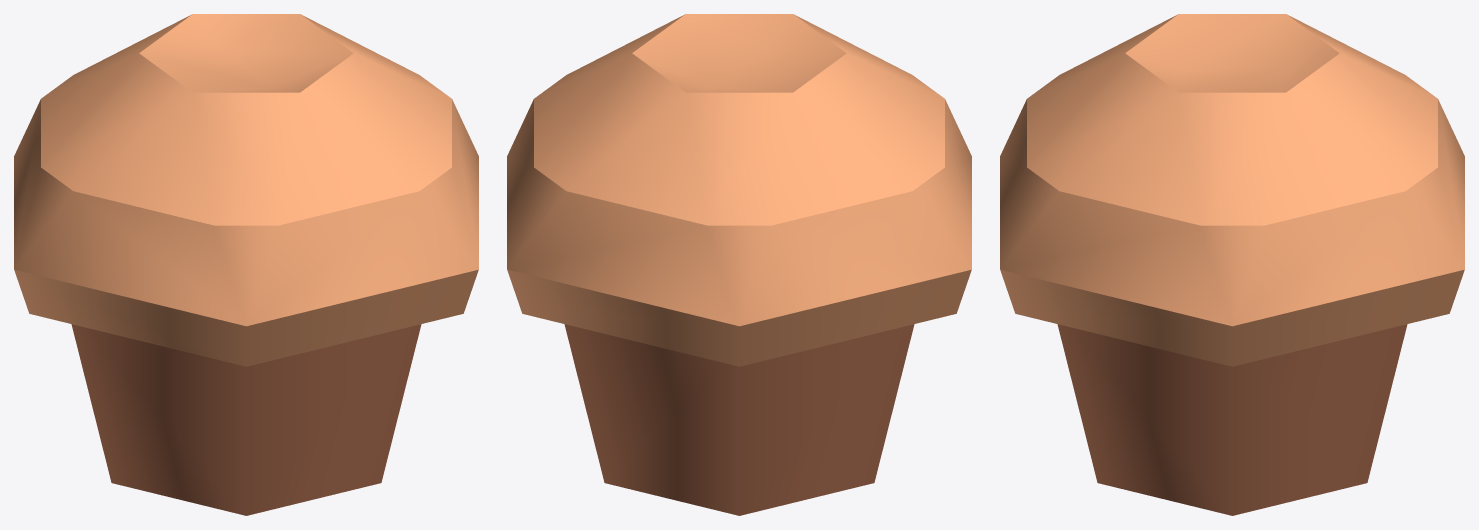
The model's file is Muffin.glb.
3 renders of one model, left to right at view 1: azimuth 30°, elevation 25°; view 2: azimuth 150°, elevation 25°; view 3: azimuth 270°, elevation 25°, orthographic.
Visible parts, largest first — view 1: muffin; view 2: muffin; view 3: muffin.
Part boxes in pixels (bbox=[...]): muffin: bbox=[14, 14, 478, 515]; muffin: bbox=[507, 14, 971, 515]; muffin: bbox=[1000, 14, 1464, 515].
Size of the model in its own units: 0.3047 by 0.2486 by 0.2639.
